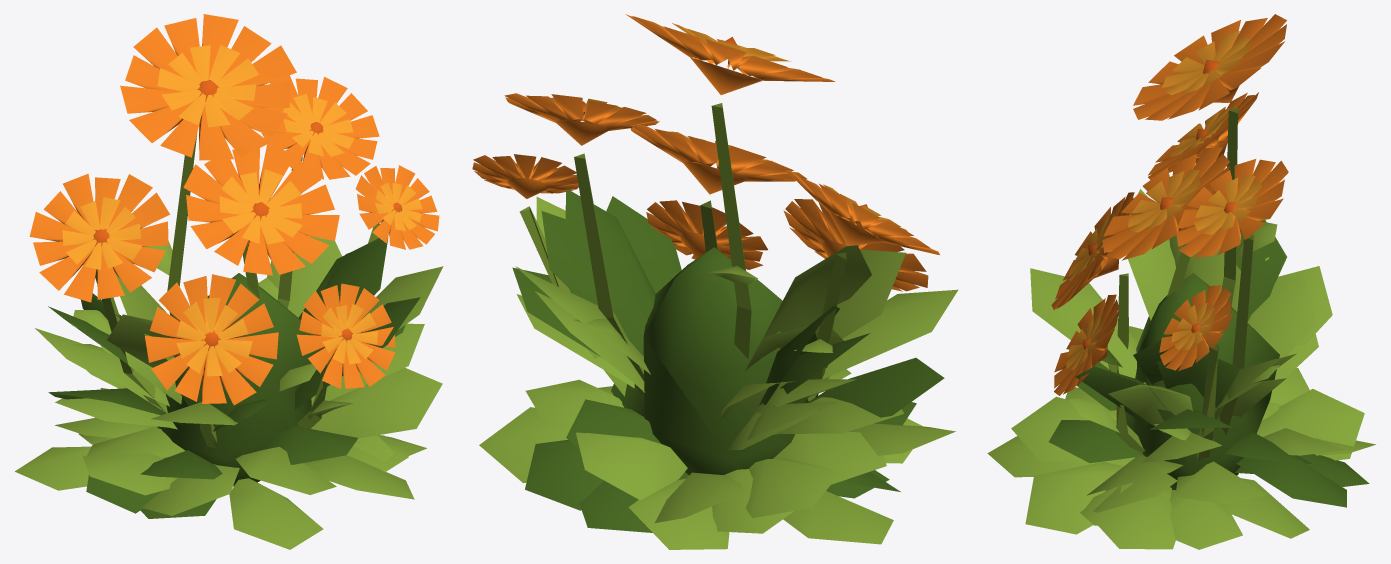
The model's file is marigold-charming.glb.
3 renders of one model, left to right at view 1: azimuth 30°, elevation 25°; view 2: azimuth 150°, elevation 25°; view 3: azimuth 270°, elevation 25°, orthographic. The views are drawn at different scales.
Parts seen in each view (by area): view 1: blooms_orange, leaves_green, blooms_amber, leaves_dark, stems, blooms_gold; view 2: leaves_green, leaves_dark, blooms_orange, stems, blooms_amber; view 3: leaves_green, blooms_orange, leaves_dark, blooms_amber, stems, blooms_gold.
Part boxes in pixels (x1,y1,x2,y2): blooms_orange: (29,14,439,405); leaves_green: (15,236,443,549); blooms_amber: (62,45,422,376); leaves_dark: (48,237,420,518); stems: (95,135,379,486); blooms_gold: (93,80,402,350); leaves_green: (479,197,958,549); leaves_dark: (512,189,944,532); blooms_orange: (472,14,939,291); stems: (519,103,846,403); blooms_amber: (516,23,907,231); leaves_green: (987,189,1375,549); blooms_orange: (1051,14,1288,395); leaves_dark: (1049,220,1369,507); blooms_amber: (1066,31,1261,370); stems: (1108,108,1253,460); blooms_gold: (1082,59,1236,349).
Size of the model in its own units: 0.3112 by 0.315 by 0.251.
